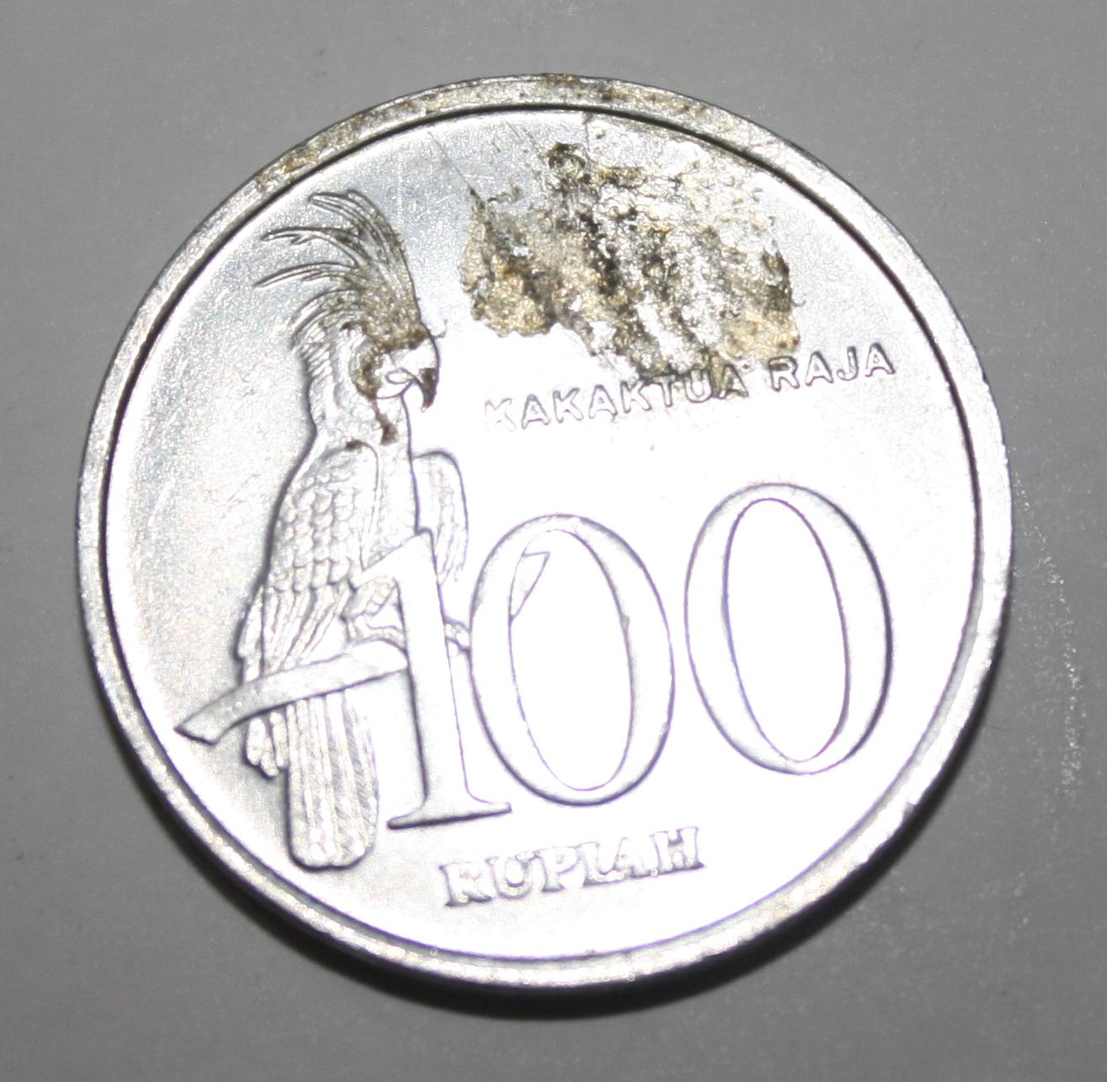coin_100_e1999: (80, 66, 1027, 1022)
